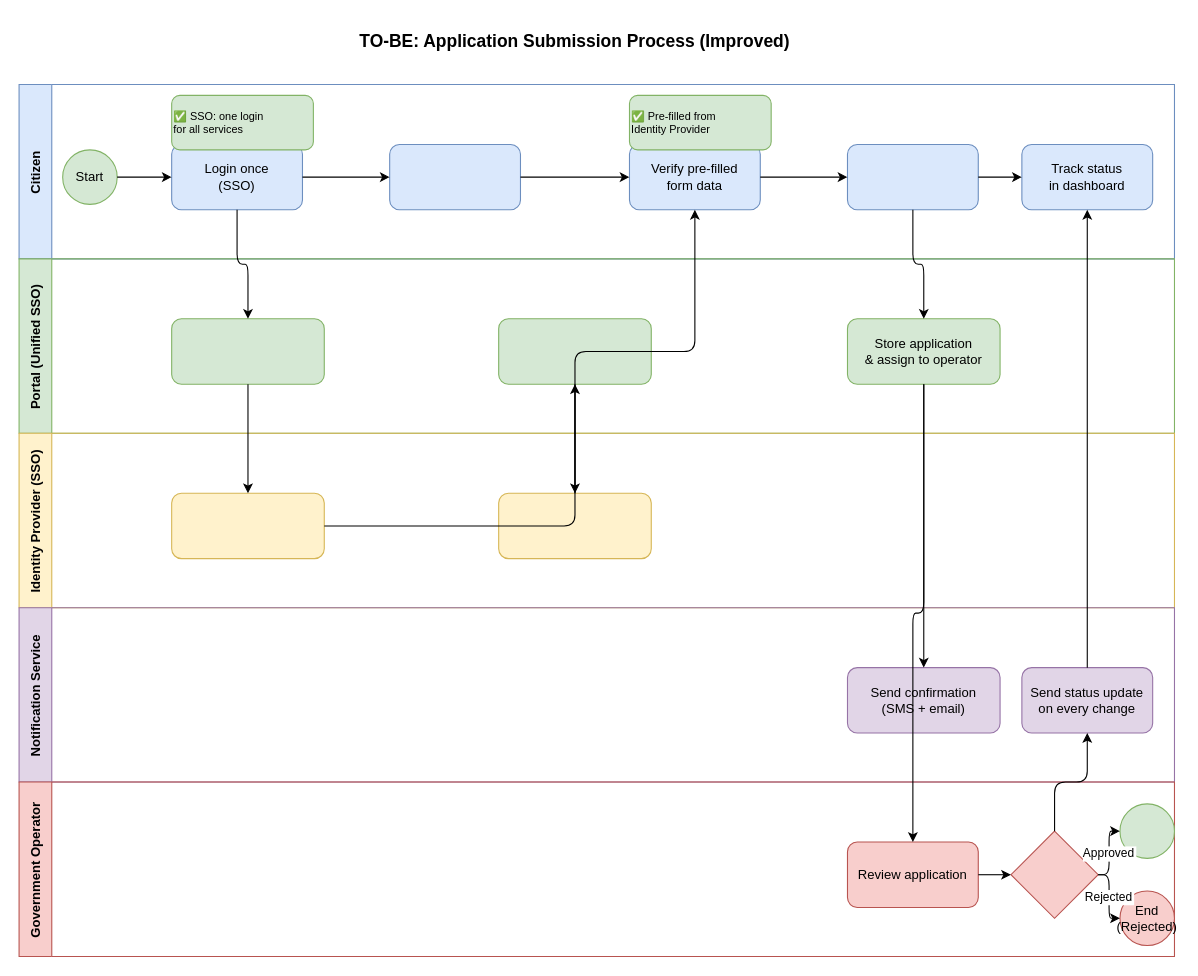
The diagram is 1198 pixels wide and 976 high, and some of its shapes have lost their labels. Each missing label, with the centre of its shape:
Attach docs & Submit: point (912, 176)
Decision: point (1054, 874)
End (Approved): point (1146, 830)
Pre-fill form with citizen data: point (574, 351)
Return citizen profile data (API): point (574, 525)
Select service from catalogue: point (454, 176)
Validate IIN+EDS & issue SSO token: point (247, 525)
Validate SSO token (once per session): point (247, 351)
